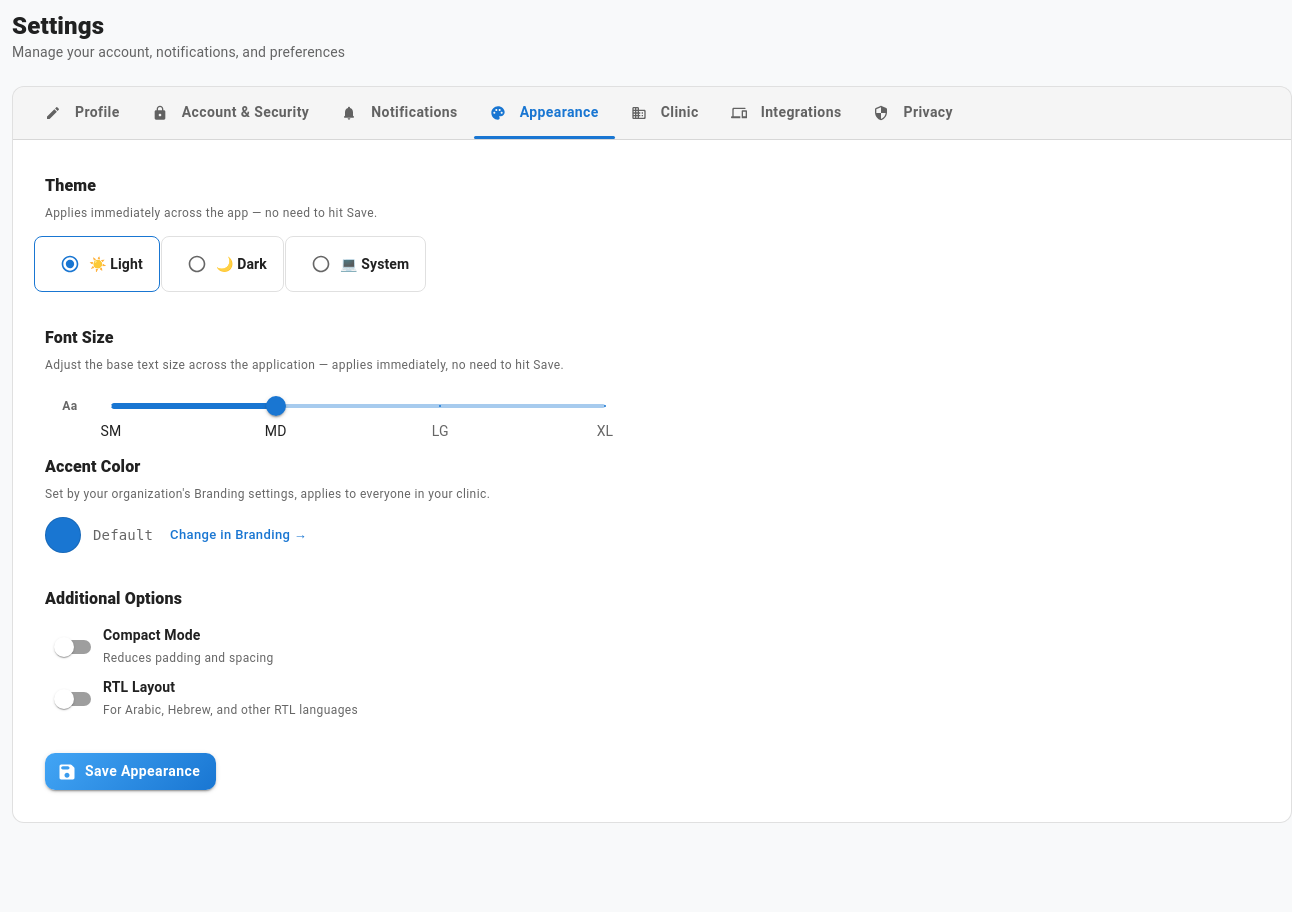
Test: settings/index.jsx — Appearance persistence (BUG044) › merges into existing localStorage prefs on save, never clobbering a themeMode ThemeModeContext already wrote
expect the heading "Accent Color" is shown: met, box left=45, top=458, right=140, bottom=476
Click the button "Save Appearance": (131, 772) left=45, top=753, right=216, bottom=790
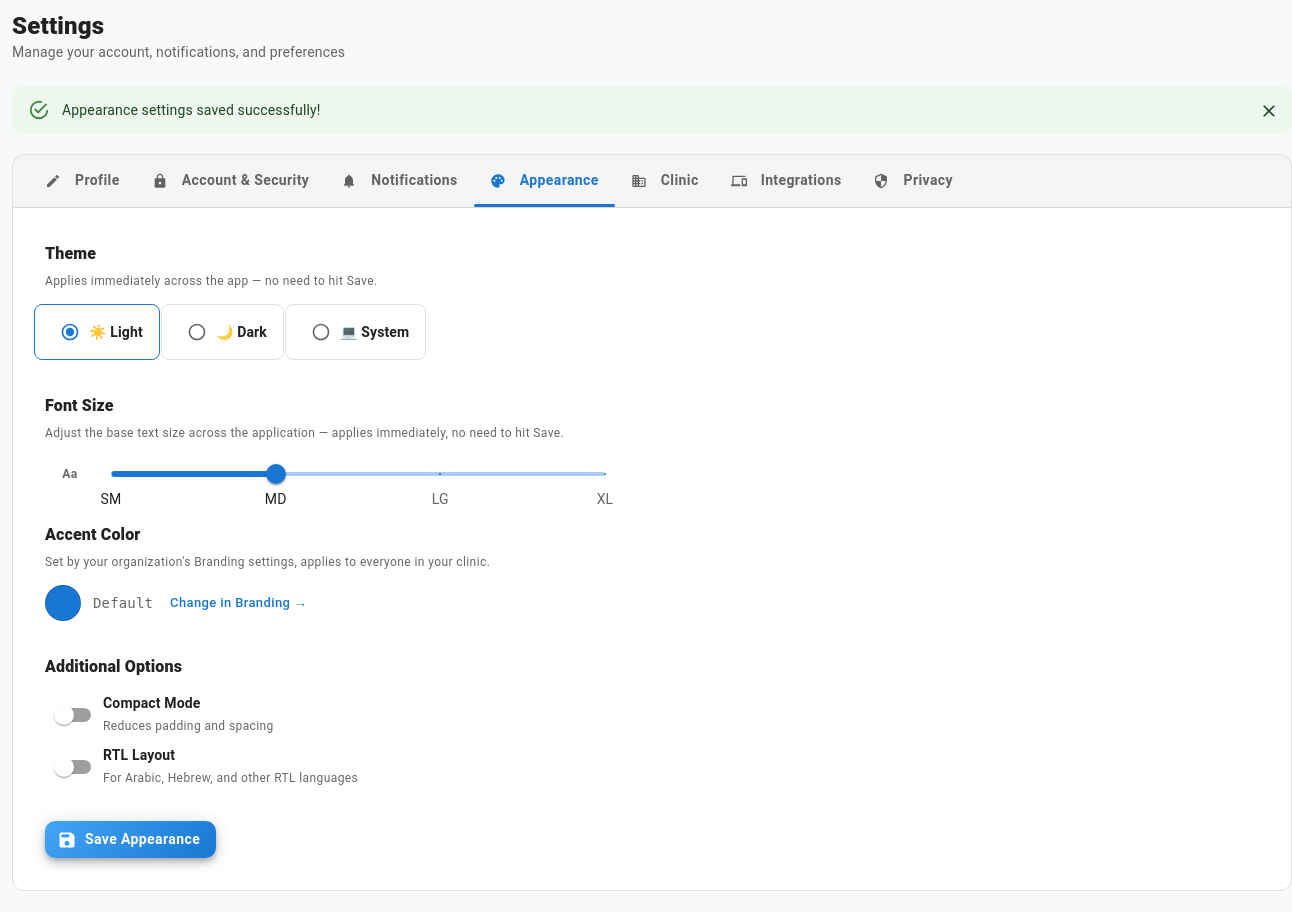
expect the text "Appearance settings saved successfully!" is shown: met, box left=62, top=102, right=321, bottom=118
